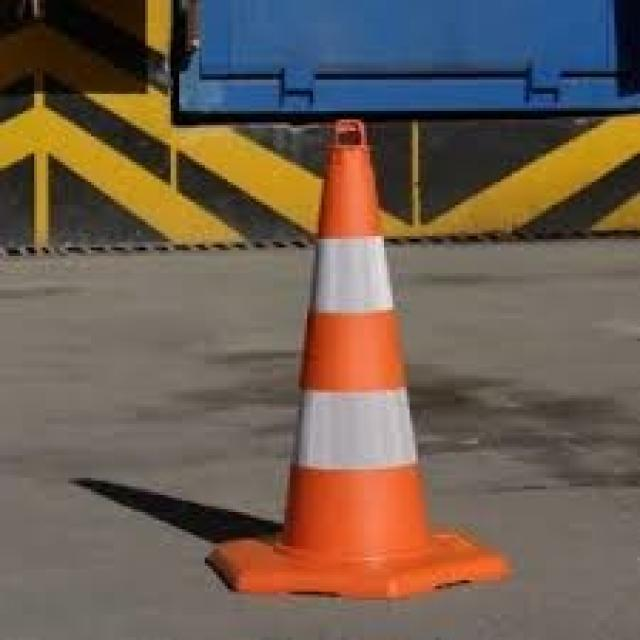Traffic-cone: (200, 113, 517, 609)
